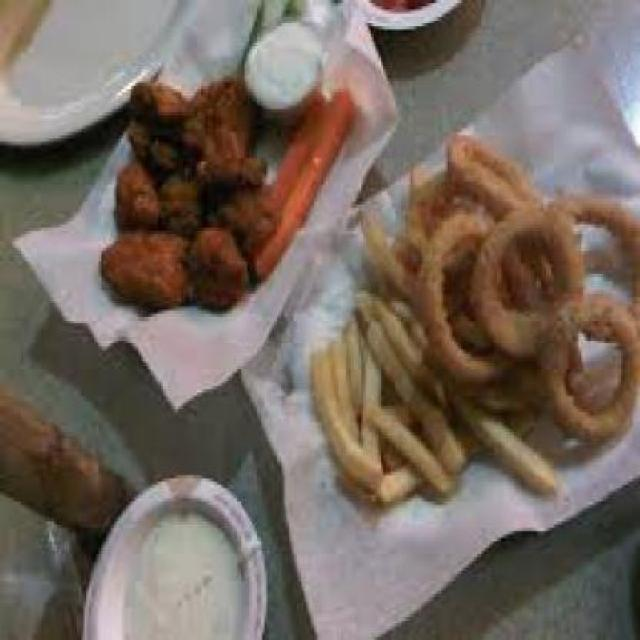chicken wings: (93, 66, 264, 317)
french fries: (302, 203, 562, 534)
onion rings: (418, 122, 638, 442)
